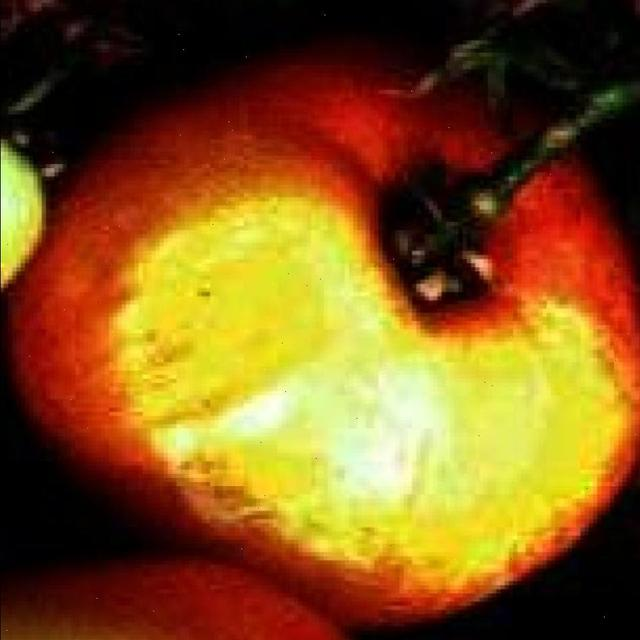Sunscald Fruit: (54, 105, 422, 386)
